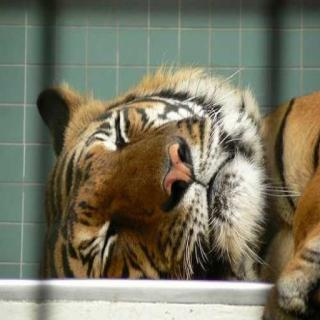Tiger: (29, 54, 320, 282)
